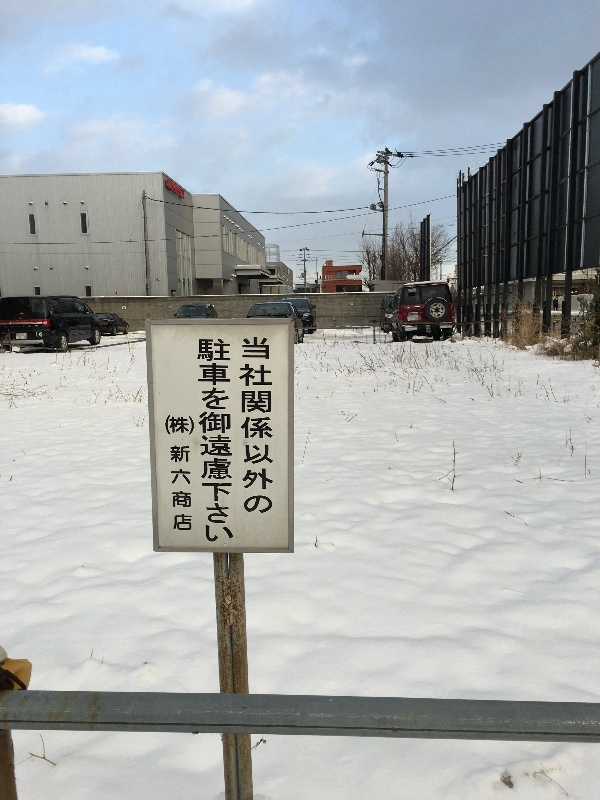text: (209, 339, 224, 543), (241, 337, 256, 514), (257, 337, 272, 514), (197, 339, 208, 543), (225, 339, 234, 543), (177, 445, 193, 530), (170, 445, 176, 530), (238, 337, 240, 514), (177, 415, 192, 435), (166, 415, 176, 435), (273, 337, 274, 514), (193, 415, 195, 435)
